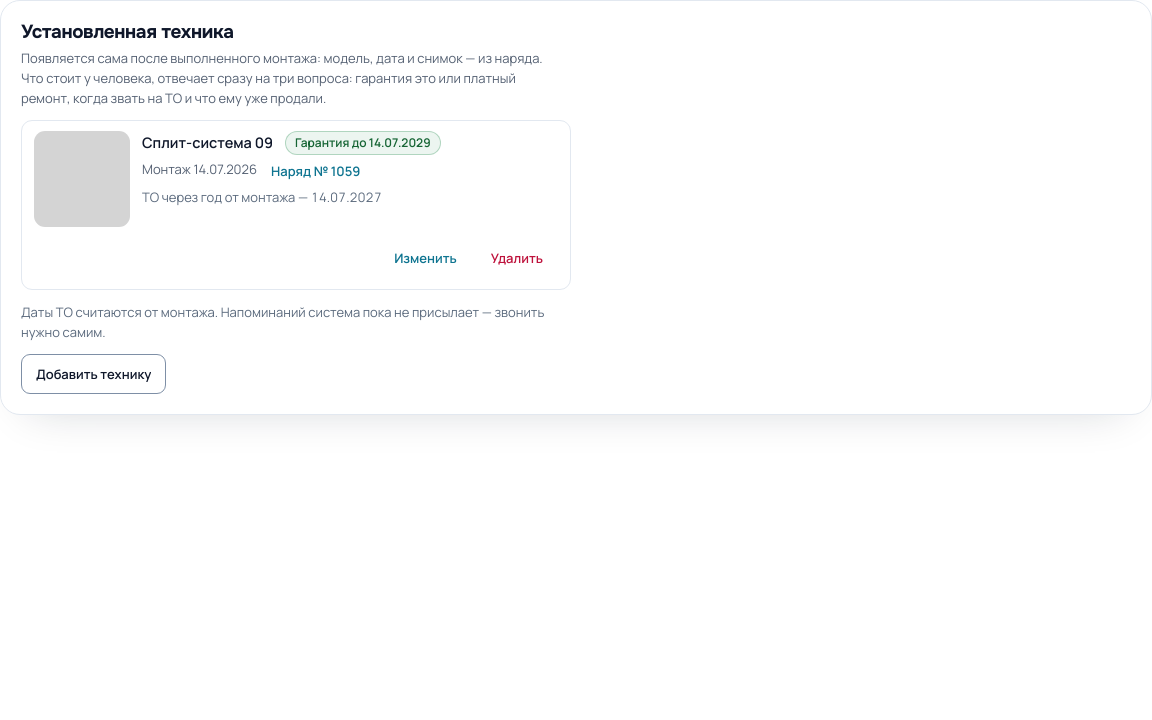
Test: Техника клиента › правка открывается на месте записи
Click the button "Изменить" at (425, 259), box [379,239,472,279]
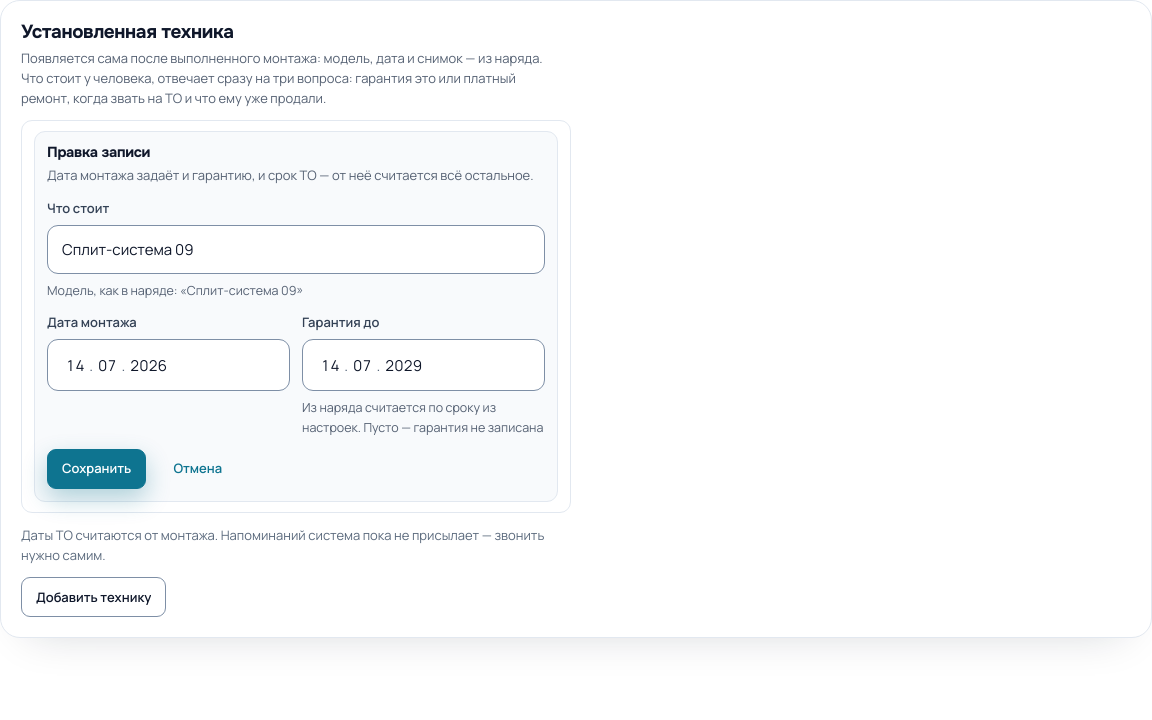
Now the field labelled "Что стоит" holds "Сплит-система 09", box [47,225,545,274]
